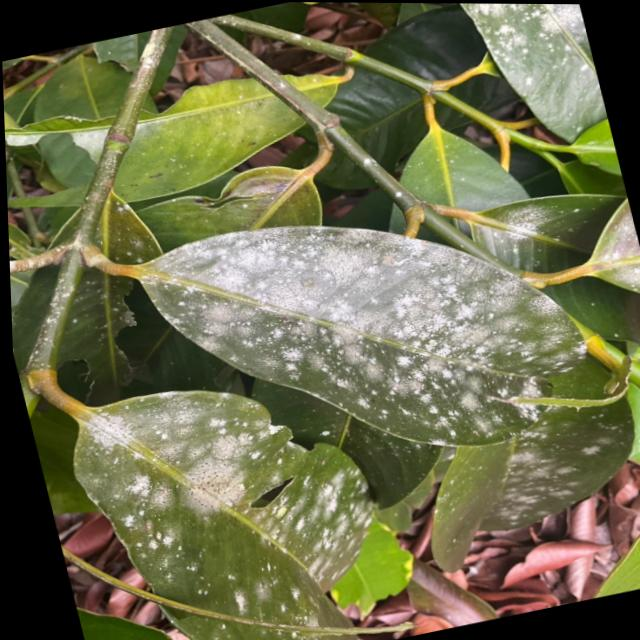Leaf Spot: (140, 155, 625, 478), (67, 343, 419, 640), (448, 3, 607, 145)
